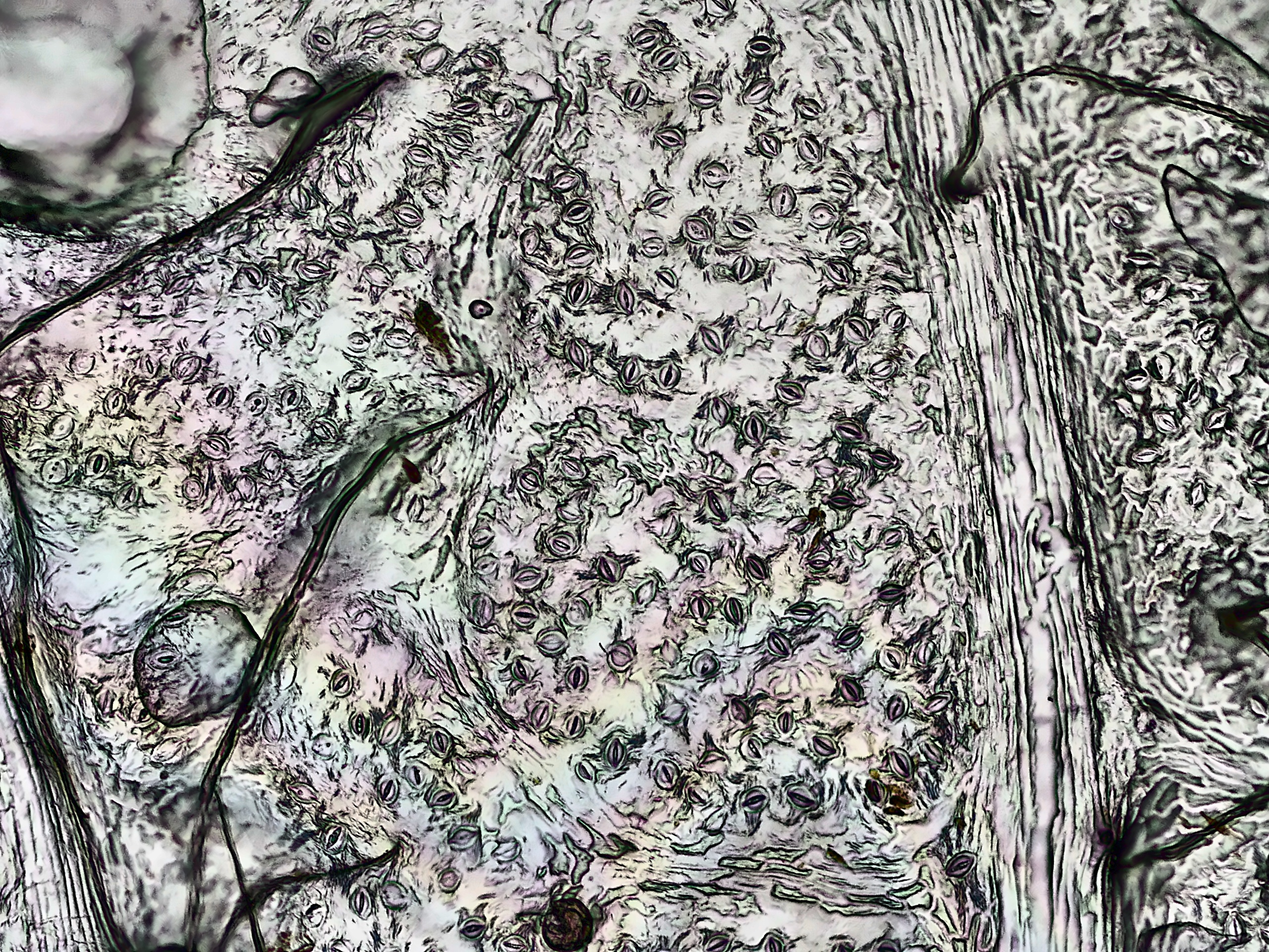stomata: (326, 208, 357, 241), (391, 196, 422, 228), (426, 726, 455, 759), (739, 413, 768, 446), (536, 627, 569, 655), (251, 321, 282, 350), (546, 528, 577, 556), (1223, 911, 1250, 943), (620, 354, 645, 388), (416, 43, 446, 71), (362, 263, 393, 290), (768, 184, 795, 215), (471, 593, 497, 625), (142, 648, 183, 668), (700, 158, 729, 186), (680, 216, 710, 243), (691, 650, 718, 680), (704, 490, 730, 521), (611, 281, 635, 314), (565, 338, 591, 368), (727, 213, 758, 238), (696, 323, 720, 355), (547, 170, 579, 194), (843, 316, 871, 343), (84, 448, 110, 477), (748, 34, 777, 60), (888, 750, 914, 779), (1106, 206, 1135, 232), (742, 79, 772, 104), (322, 822, 347, 852), (1150, 408, 1180, 433), (408, 19, 442, 41), (606, 641, 634, 667), (807, 204, 835, 230), (1141, 278, 1169, 304), (171, 355, 200, 380), (804, 331, 829, 360), (299, 257, 329, 281), (375, 772, 397, 804), (656, 759, 678, 791), (408, 765, 435, 791), (744, 553, 770, 580), (777, 381, 805, 406), (948, 851, 976, 876), (46, 415, 75, 439), (280, 384, 304, 413), (565, 245, 594, 269), (288, 783, 317, 807), (449, 823, 478, 847), (653, 129, 686, 150), (331, 666, 353, 697), (562, 200, 590, 224), (471, 553, 500, 576), (834, 418, 863, 441), (685, 86, 720, 105), (199, 437, 229, 459), (874, 648, 904, 670), (333, 159, 355, 189), (597, 555, 621, 582), (261, 451, 285, 478), (1090, 92, 1118, 115), (310, 419, 339, 441), (799, 135, 821, 164), (531, 701, 553, 730), (567, 660, 588, 690), (564, 599, 589, 624), (689, 785, 713, 811), (567, 278, 590, 305), (633, 580, 656, 607), (288, 186, 311, 213), (658, 359, 678, 390), (625, 82, 647, 110), (405, 145, 434, 166), (470, 48, 495, 72), (826, 260, 850, 285), (379, 716, 399, 746), (741, 789, 767, 812), (114, 483, 140, 506), (71, 349, 93, 376), (793, 95, 820, 117), (512, 655, 534, 682), (651, 48, 679, 69), (520, 225, 540, 254), (515, 567, 540, 590), (401, 247, 427, 269), (520, 469, 542, 495), (730, 698, 751, 725), (711, 398, 732, 425), (101, 391, 125, 414), (885, 696, 908, 720), (344, 369, 368, 392), (311, 27, 334, 51), (394, 394, 423, 413), (838, 679, 863, 701), (812, 733, 837, 755), (235, 475, 257, 500), (511, 605, 537, 626), (790, 600, 816, 621), (865, 778, 886, 804), (606, 739, 625, 767), (655, 268, 678, 291), (243, 393, 267, 415), (470, 525, 494, 547), (790, 786, 814, 808), (759, 133, 780, 158), (742, 737, 763, 762), (237, 265, 263, 285), (645, 190, 671, 210), (384, 328, 410, 348), (753, 463, 779, 483), (768, 632, 791, 654), (885, 308, 907, 331), (210, 384, 231, 408), (734, 254, 755, 278), (633, 30, 660, 48), (640, 237, 667, 255), (461, 918, 484, 939), (184, 476, 205, 499), (815, 459, 839, 479), (32, 384, 51, 409), (347, 331, 368, 353), (1203, 408, 1224, 430), (440, 868, 460, 891), (1196, 320, 1216, 343), (564, 713, 583, 737), (660, 704, 684, 723), (870, 359, 895, 377), (554, 504, 579, 522), (876, 584, 904, 600), (725, 598, 746, 619), (1126, 369, 1147, 390), (562, 458, 585, 477), (826, 492, 853, 508), (449, 131, 474, 148), (1182, 381, 1203, 401), (1253, 425, 1269, 451), (836, 627, 860, 644), (353, 889, 370, 913), (692, 553, 712, 573), (577, 760, 597, 780), (871, 451, 893, 469), (828, 175, 851, 192), (880, 529, 903, 546), (916, 645, 935, 665), (138, 356, 159, 374), (452, 98, 477, 113), (776, 712, 793, 734), (169, 277, 192, 293), (1189, 482, 1205, 505), (695, 595, 709, 621), (351, 710, 368, 731), (1106, 140, 1127, 157), (366, 19, 389, 34), (808, 552, 829, 568), (926, 695, 947, 711), (430, 792, 454, 806), (266, 710, 279, 735), (321, 472, 339, 490), (839, 231, 860, 246), (1224, 544, 1240, 561), (1131, 451, 1157, 461)
